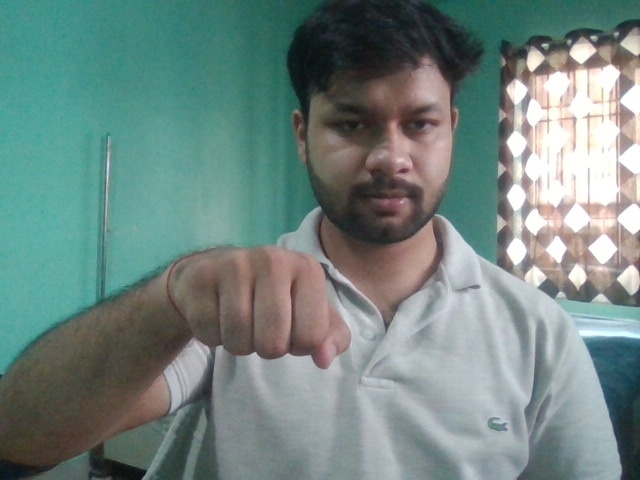Yes: (158, 243, 353, 371)
